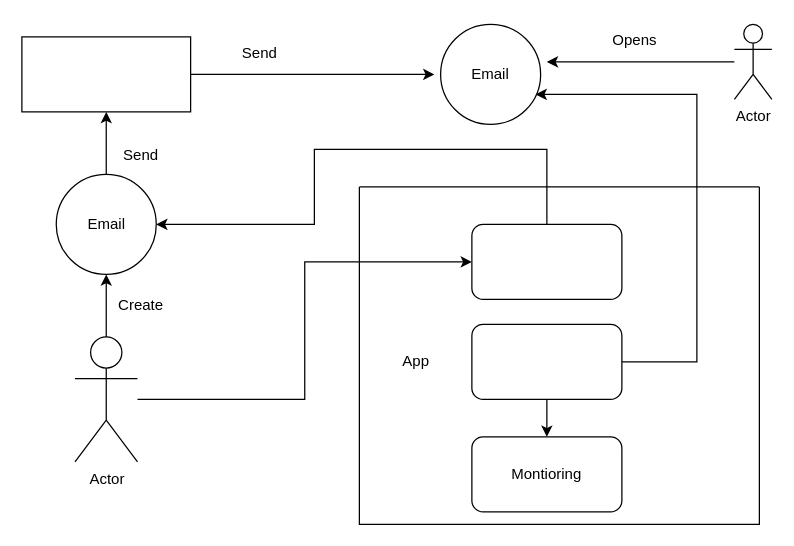
The diagram is 794 pixels wide and 546 high, and some of its shapes have lost their labels. The shapes that lost their labels are listed below. From the top down, each one's centre as x and y in pixels, then its label:
At point (106, 74): "External Mail Provider".
At point (546, 261): "Creates Resource".
At point (546, 361): "Resource Opened".
